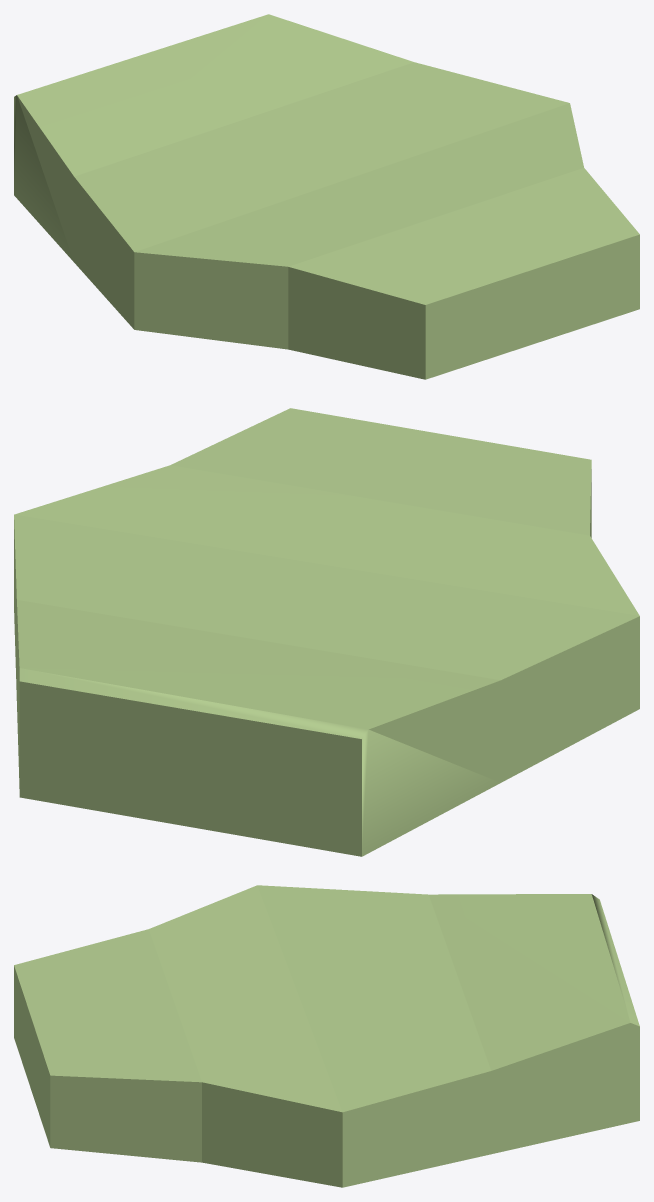
The model's file is Platform_TempleBeforeStairs_Cube_4_.fbx.
3 renders of one model, top to bottom at view 1: azimuth 30°, elevation 25°; view 2: azimuth 150°, elevation 25°; view 3: azimuth 270°, elevation 25°, orthographic. The views are drawn at different scales.
Parts seen in each view (by area): view 1: Platform_TempleBeforeStairs_Cube_4_; view 2: Platform_TempleBeforeStairs_Cube_4_; view 3: Platform_TempleBeforeStairs_Cube_4_.
Boxes of the visible parts, x1,y1,x2,y2 form: Platform_TempleBeforeStairs_Cube_4_: (14, 14, 639, 379); Platform_TempleBeforeStairs_Cube_4_: (14, 408, 639, 856); Platform_TempleBeforeStairs_Cube_4_: (14, 885, 639, 1187).
Size of the model in its own units: 107 by 22.05 by 124.
